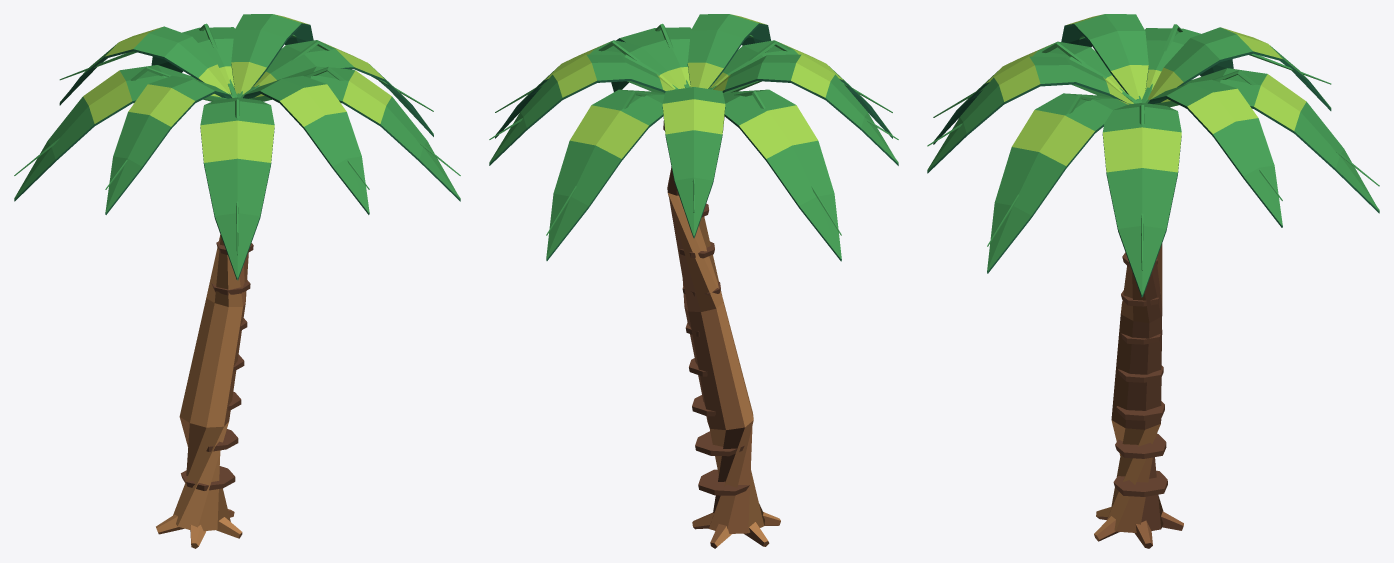
File: PalmeiraBananeira.fbx
3 renders of one model, left to right at view 1: azimuth 30°, elevation 25°; view 2: azimuth 150°, elevation 25°; view 3: azimuth 270°, elevation 25°, orthographic. The views are drawn at different scales.
Parts seen in each view (by area): view 1: PalmeiraBananeira_Folha_6, PalmeiraBananeira_Folha_4, PalmeiraBananeira_Solido_3, PalmeiraBananeira_Folha_5, PalmeiraBananeira_Solido_1, PalmeiraBananeira_Solido_2; view 2: PalmeiraBananeira_Folha_6, PalmeiraBananeira_Folha_4, PalmeiraBananeira_Solido_2, PalmeiraBananeira_Solido_1, PalmeiraBananeira_Solido_3, PalmeiraBananeira_Folha_5; view 3: PalmeiraBananeira_Folha_6, PalmeiraBananeira_Folha_4, PalmeiraBananeira_Solido_1, PalmeiraBananeira_Solido_2, PalmeiraBananeira_Folha_5, PalmeiraBananeira_Solido_3.
Boxes of the visible parts, x1,y1,x2,y2 form: PalmeiraBananeira_Folha_6: (14, 14, 460, 277); PalmeiraBananeira_Folha_4: (83, 14, 391, 162); PalmeiraBananeira_Solido_3: (156, 234, 242, 548); PalmeiraBananeira_Folha_5: (14, 23, 460, 280); PalmeiraBananeira_Solido_1: (181, 241, 253, 490); PalmeiraBananeira_Solido_2: (158, 252, 248, 544); PalmeiraBananeira_Folha_6: (489, 14, 898, 259); PalmeiraBananeira_Folha_4: (545, 14, 842, 158); PalmeiraBananeira_Solido_2: (668, 194, 780, 546); PalmeiraBananeira_Solido_1: (667, 167, 778, 548); PalmeiraBananeira_Solido_3: (668, 193, 780, 546); PalmeiraBananeira_Folha_5: (489, 23, 898, 261); PalmeiraBananeira_Folha_6: (927, 14, 1379, 294); PalmeiraBananeira_Folha_4: (986, 14, 1306, 172); PalmeiraBananeira_Solido_1: (1096, 252, 1183, 548); PalmeiraBananeira_Solido_2: (1094, 243, 1183, 547); PalmeiraBananeira_Folha_5: (927, 24, 1379, 297); PalmeiraBananeira_Solido_3: (1094, 302, 1160, 535).
Bounding box in the file's own units: 1438 × 1674 × 1391.
